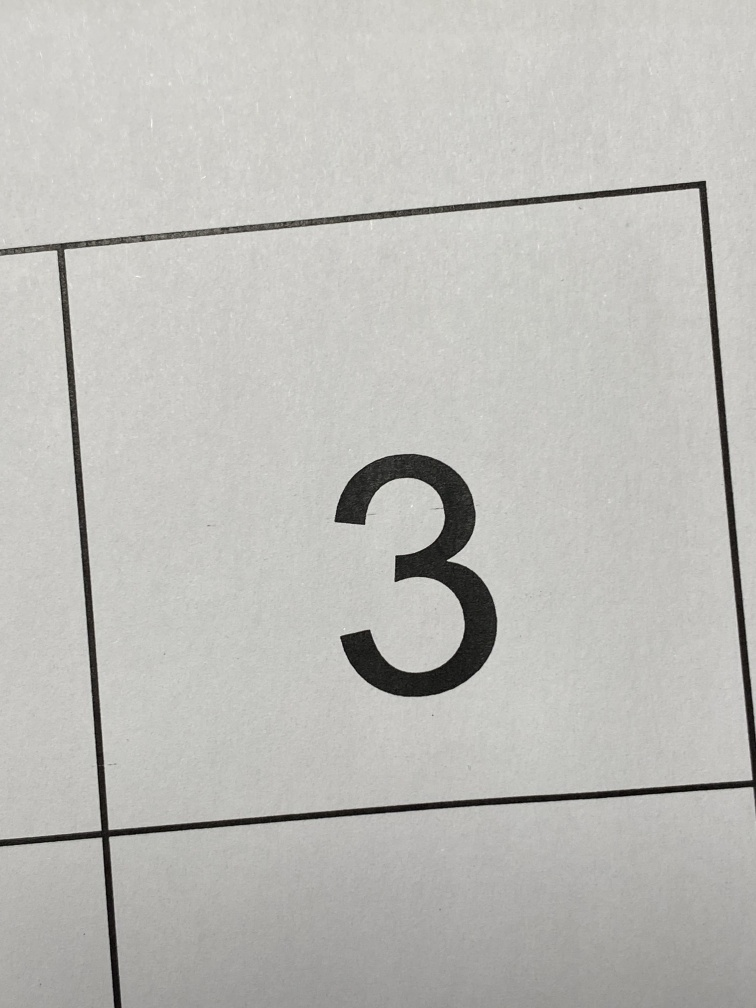three: (289, 403, 542, 759)
